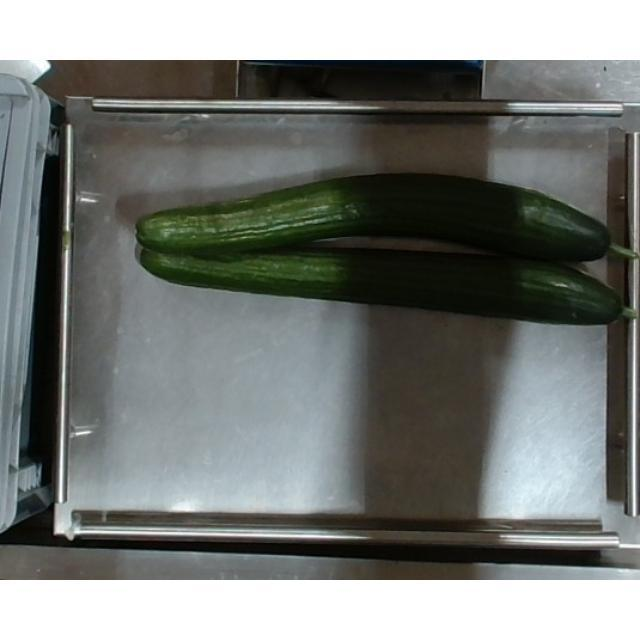cucumber: (134, 238, 640, 330), (134, 178, 640, 266)
